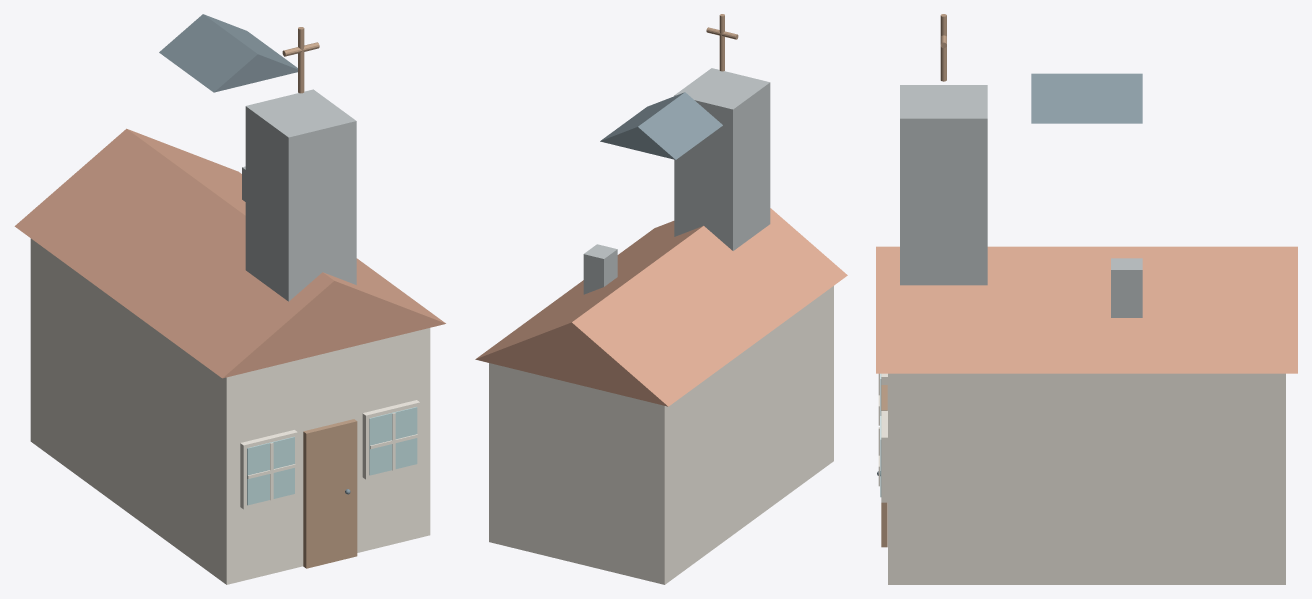
File: chapel.glb
The picture shows the model from 3 angles, left to right: view 1: azimuth 30°, elevation 25°; view 2: azimuth 150°, elevation 25°; view 3: azimuth 270°, elevation 25°; orthographic projection. The views are drawn at different scales.
Visible parts, largest first — view 1: chapel_000, chapel_001, chapel_013, chapel_017, chapel_014, chapel_009, chapel_005, chapel_008, chapel_004; view 2: chapel_000, chapel_001, chapel_013, chapel_014, chapel_012; view 3: chapel_000, chapel_001, chapel_013, chapel_014, chapel_012, chapel_008.
Boxes of the visible parts, x1,y1,x2,y2 form: chapel_000: (30, 238, 430, 584); chapel_001: (14, 128, 445, 378); chapel_013: (245, 89, 356, 301); chapel_017: (303, 421, 357, 568); chapel_014: (159, 14, 297, 92); chapel_009: (369, 407, 417, 475); chapel_005: (247, 436, 294, 505); chapel_008: (362, 400, 420, 479); chapel_004: (240, 430, 297, 509); chapel_000: (489, 286, 833, 584); chapel_001: (475, 208, 847, 406); chapel_013: (674, 68, 770, 250); chapel_014: (600, 92, 722, 159); chapel_012: (583, 244, 617, 294); chapel_000: (888, 373, 1285, 584); chapel_001: (876, 246, 1297, 373); chapel_013: (900, 85, 987, 285); chapel_014: (1031, 73, 1142, 123); chapel_012: (1111, 258, 1142, 317); chapel_008: (881, 410, 887, 502).
Size of the model in its own units: 3.3 by 7.2 by 5.3.
